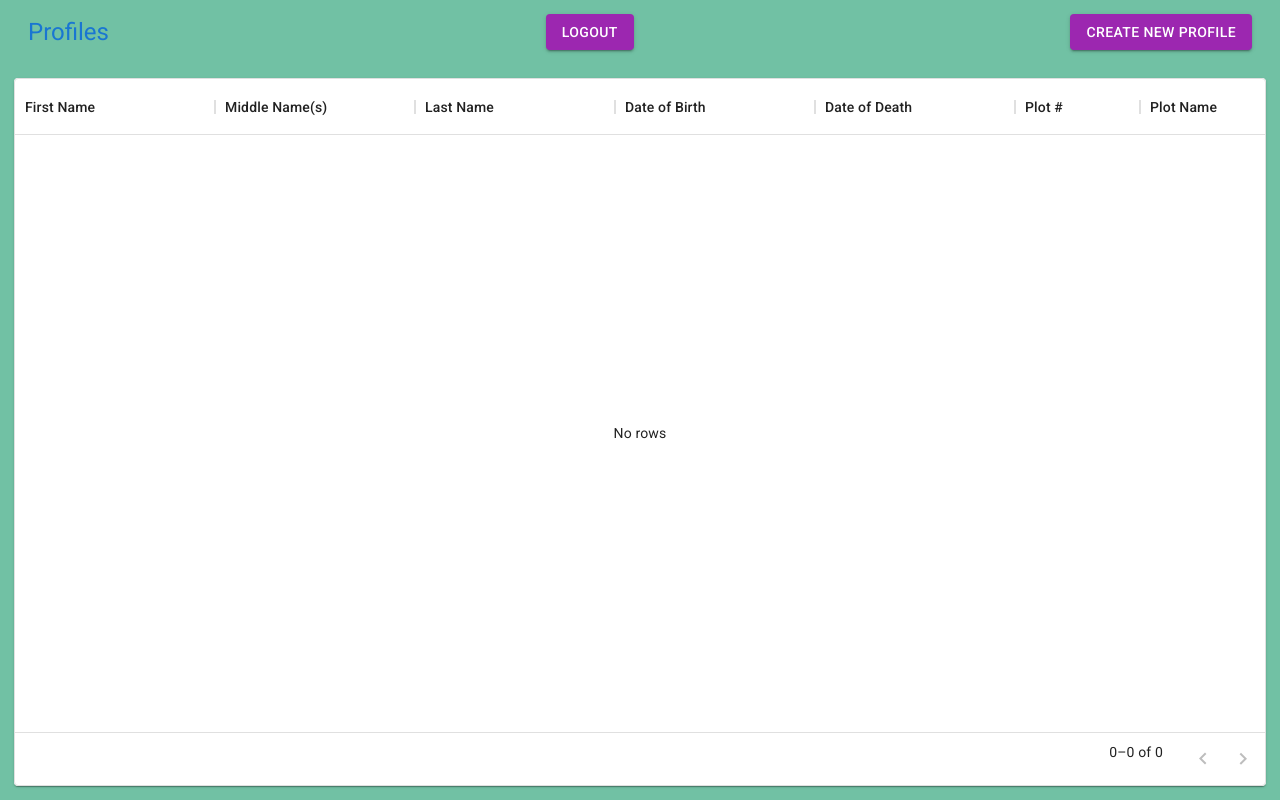
Test: ProfilesPage › Renders a create modal when create button clicked
This screenshot has width=1280, height=800.
Click the button with test id "create-new-button" at (1161, 32), box [1070,14,1252,50]
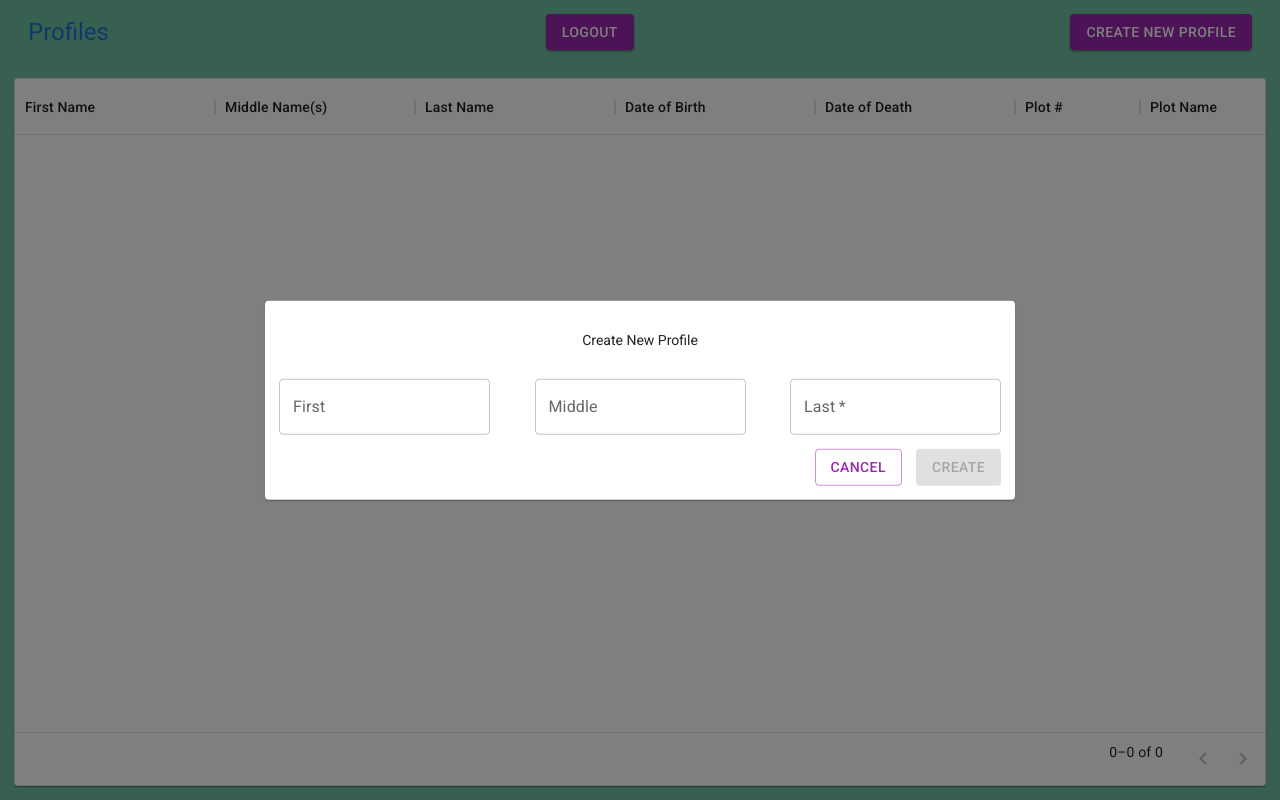
expect the button with test id "create-button" is shown: met, box [916,449,1001,485]
